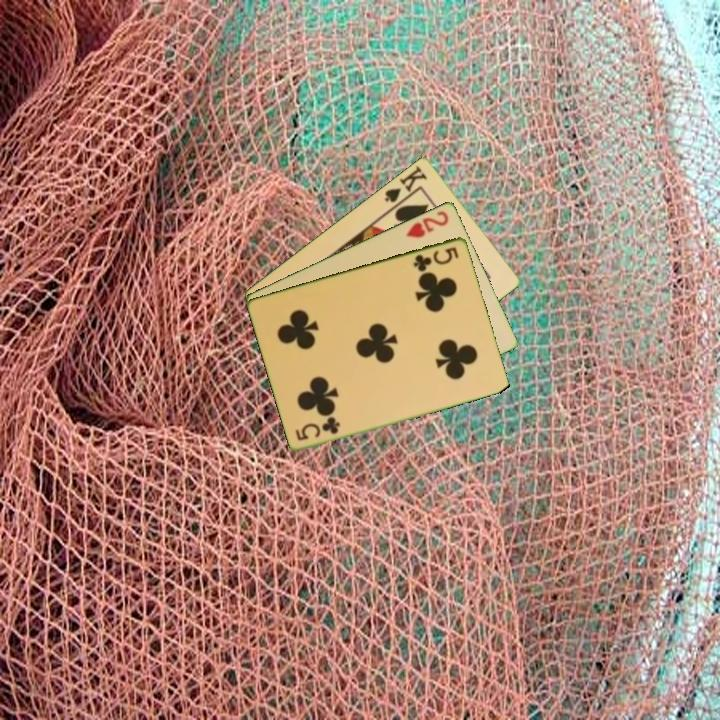2h: (403, 207, 452, 240)
5c: (410, 243, 462, 274), (292, 414, 343, 443)
Ks: (381, 162, 430, 205)
